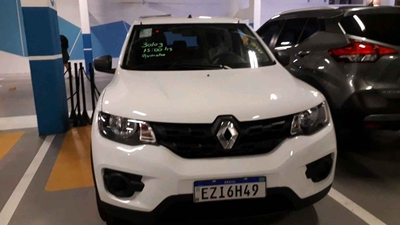Frontal Veiculo: (90, 18, 339, 214)
